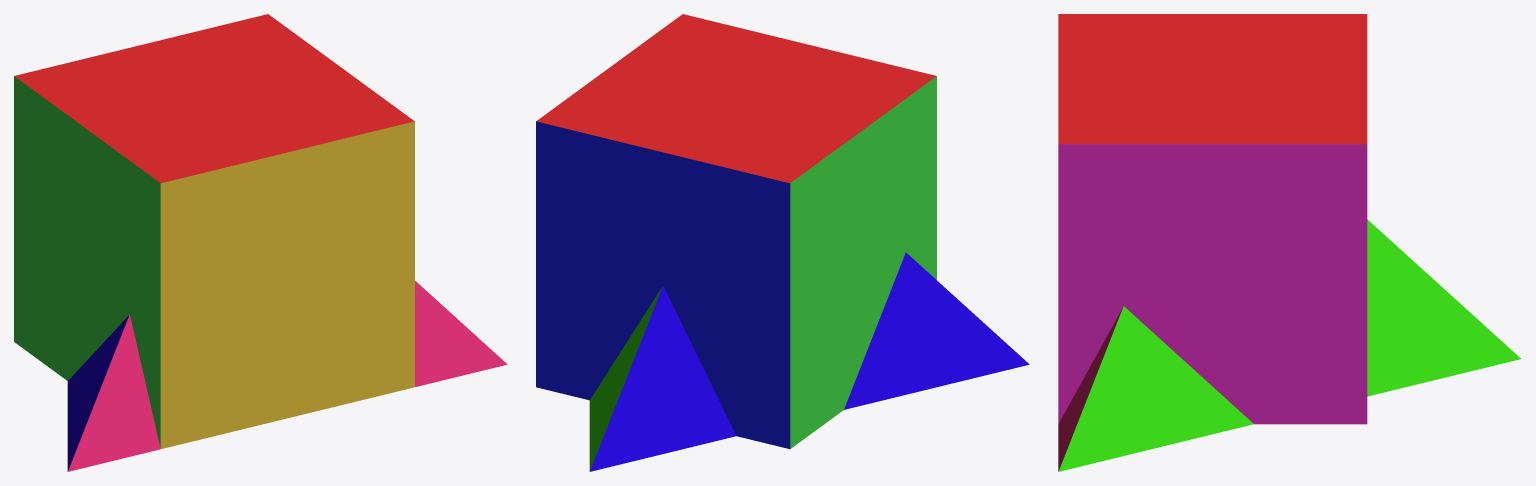
Rendered from basic_shapes.fbx.
The picture shows the model from 3 angles, left to right: view 1: azimuth 30°, elevation 25°; view 2: azimuth 150°, elevation 25°; view 3: azimuth 270°, elevation 25°; orthographic projection. The views are drawn at different scales.
Parts seen in each view (by area): view 1: Cube, Pyramid; view 2: Cube, Pyramid; view 3: Cube, Pyramid.
Boxes of the visible parts, box(x1,y1,x2,y2) form: Cube: box(14, 14, 414, 448); Pyramid: box(67, 281, 507, 471); Cube: box(536, 14, 936, 448); Pyramid: box(589, 252, 1029, 471); Cube: box(1058, 14, 1367, 424); Pyramid: box(1058, 219, 1520, 471).
Bounding box in the file's own units: 346 × 200 × 300.
